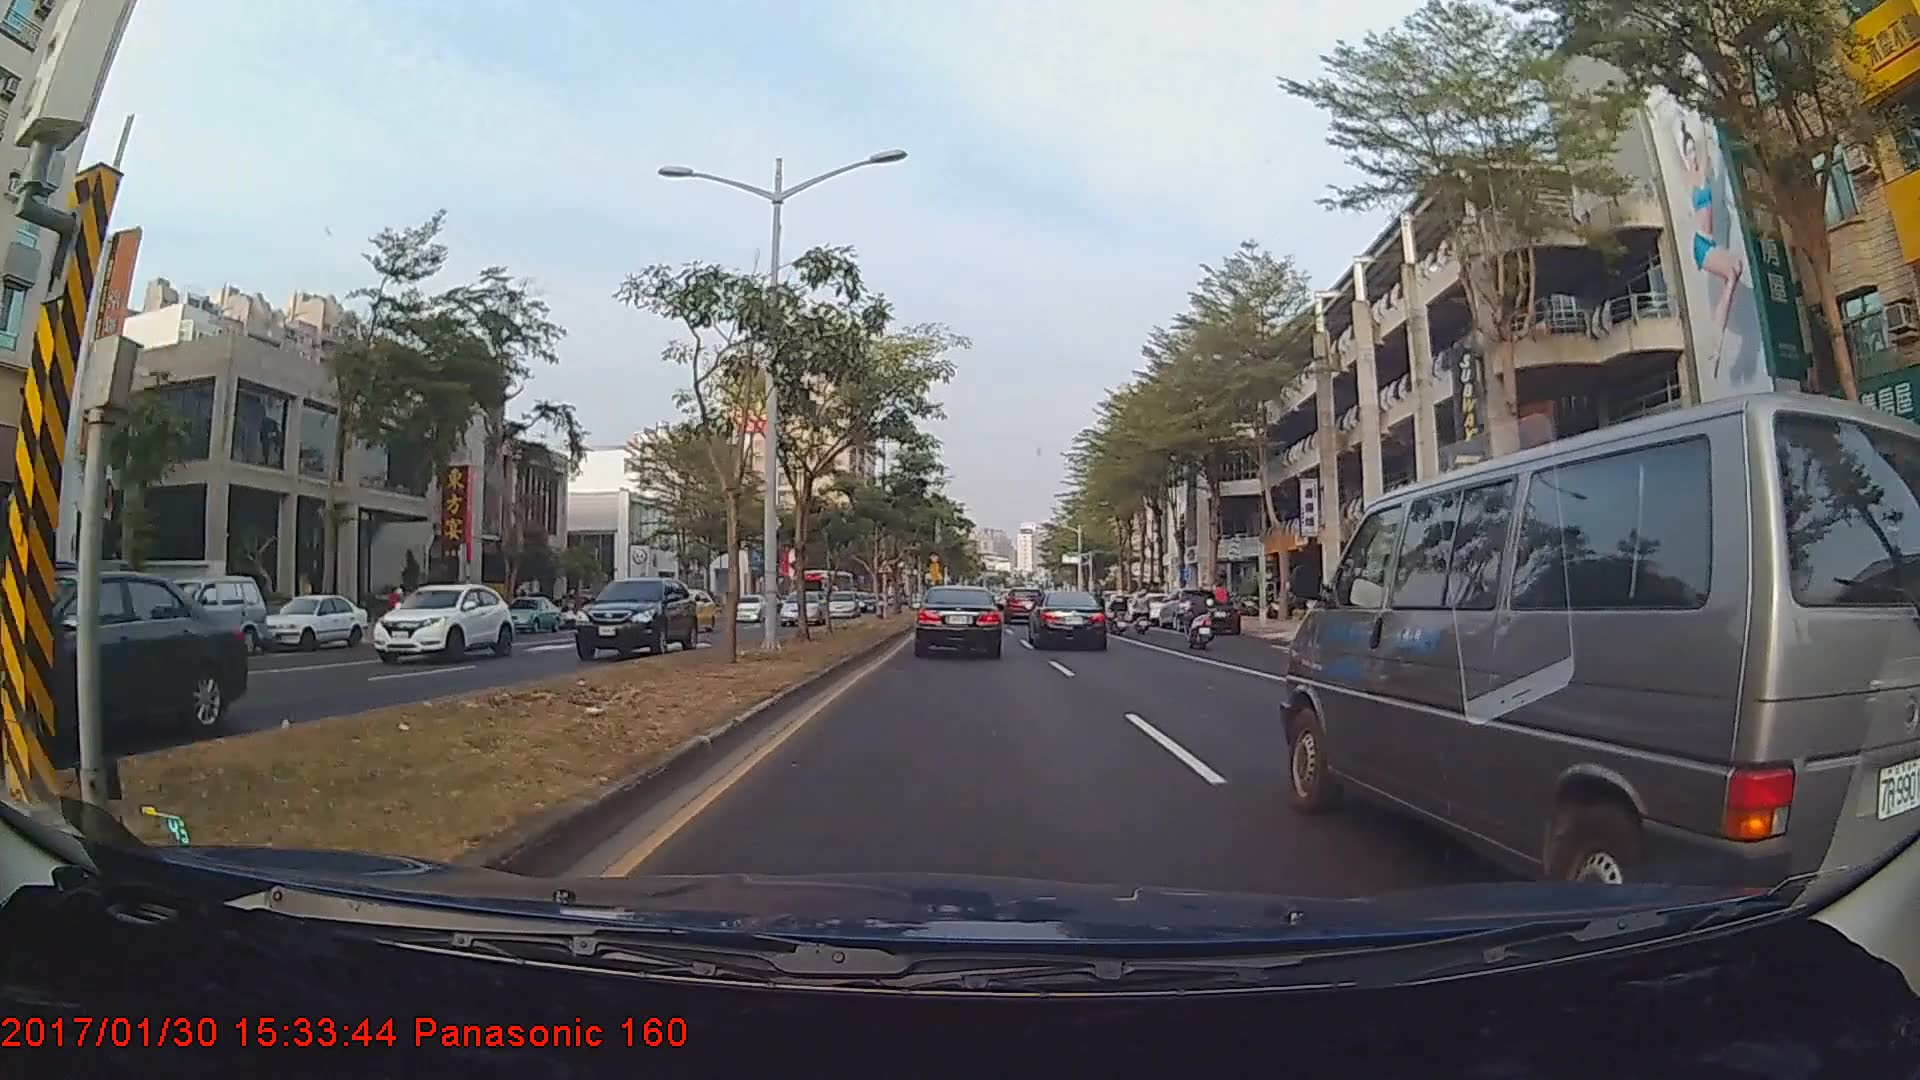rider: (1181, 583, 1218, 652), (1130, 588, 1158, 639)
vehicle: (1276, 403, 1899, 908), (0, 568, 245, 749), (367, 580, 513, 666), (572, 574, 699, 660), (141, 574, 268, 655), (915, 582, 1003, 658), (1030, 588, 1108, 650), (647, 587, 716, 631), (1170, 597, 1239, 637), (796, 567, 853, 611), (781, 589, 829, 628), (721, 592, 769, 621), (1005, 586, 1043, 621), (824, 588, 862, 618)
